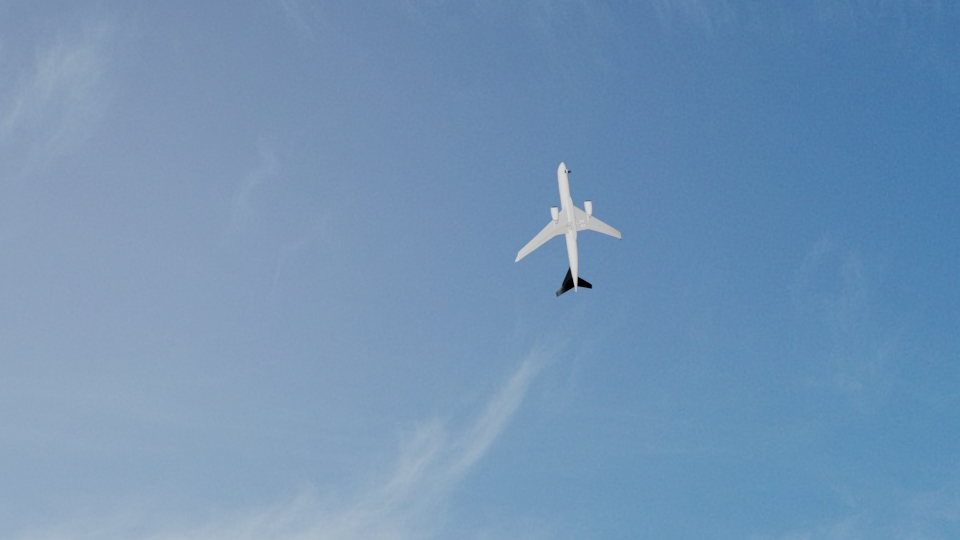plane: (514, 159, 622, 295)
